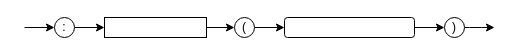
This 520x55 diagram has some shape labels left out. The shapes that lost their labels are listed below. From the top down, each one's centre as x and y in pixels, then its label:
At [155,27]: "eval".
At [349,27]: "expression template".
